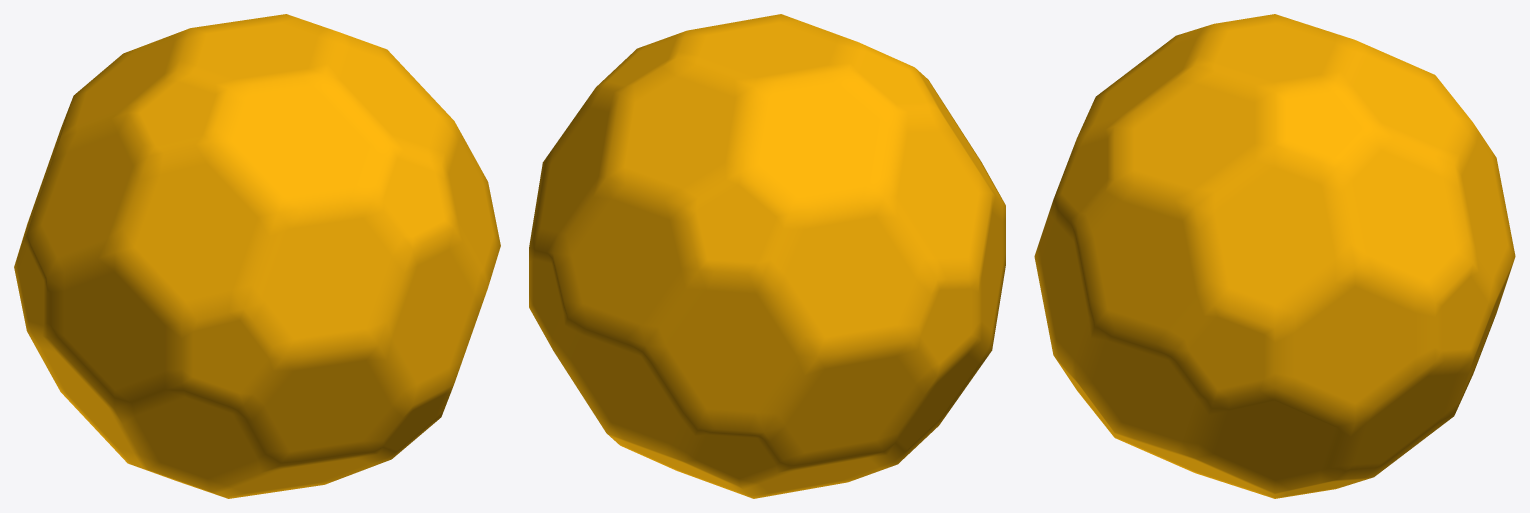
File: testvc.obj
3 renders of one model, left to right at view 1: azimuth 30°, elevation 25°; view 2: azimuth 150°, elevation 25°; view 3: azimuth 270°, elevation 25°, orthographic.
Parts seen in each view (by area): view 1: 0; view 2: 0; view 3: 0.
Part boxes in pixels (x1,y1,x2,y2): 0: [14, 14, 500, 498]; 0: [529, 14, 1005, 498]; 0: [1034, 14, 1515, 498].
Bounding box in the file's own units: 453 × 424 × 453.
